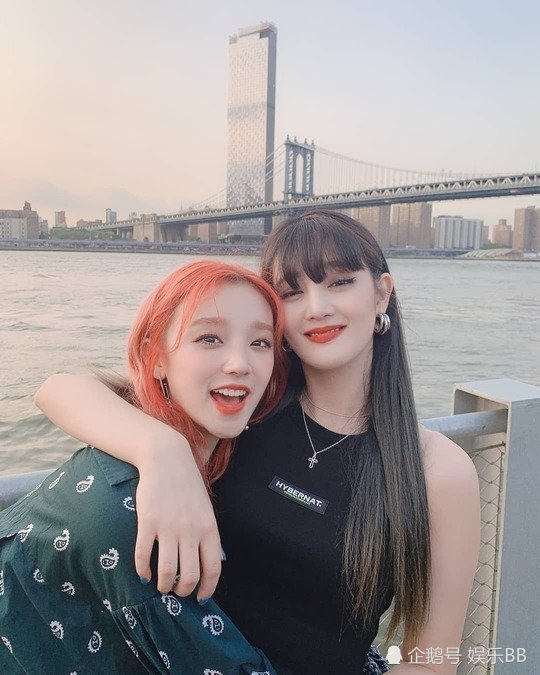people: (2, 262, 279, 675), (250, 214, 477, 675)
